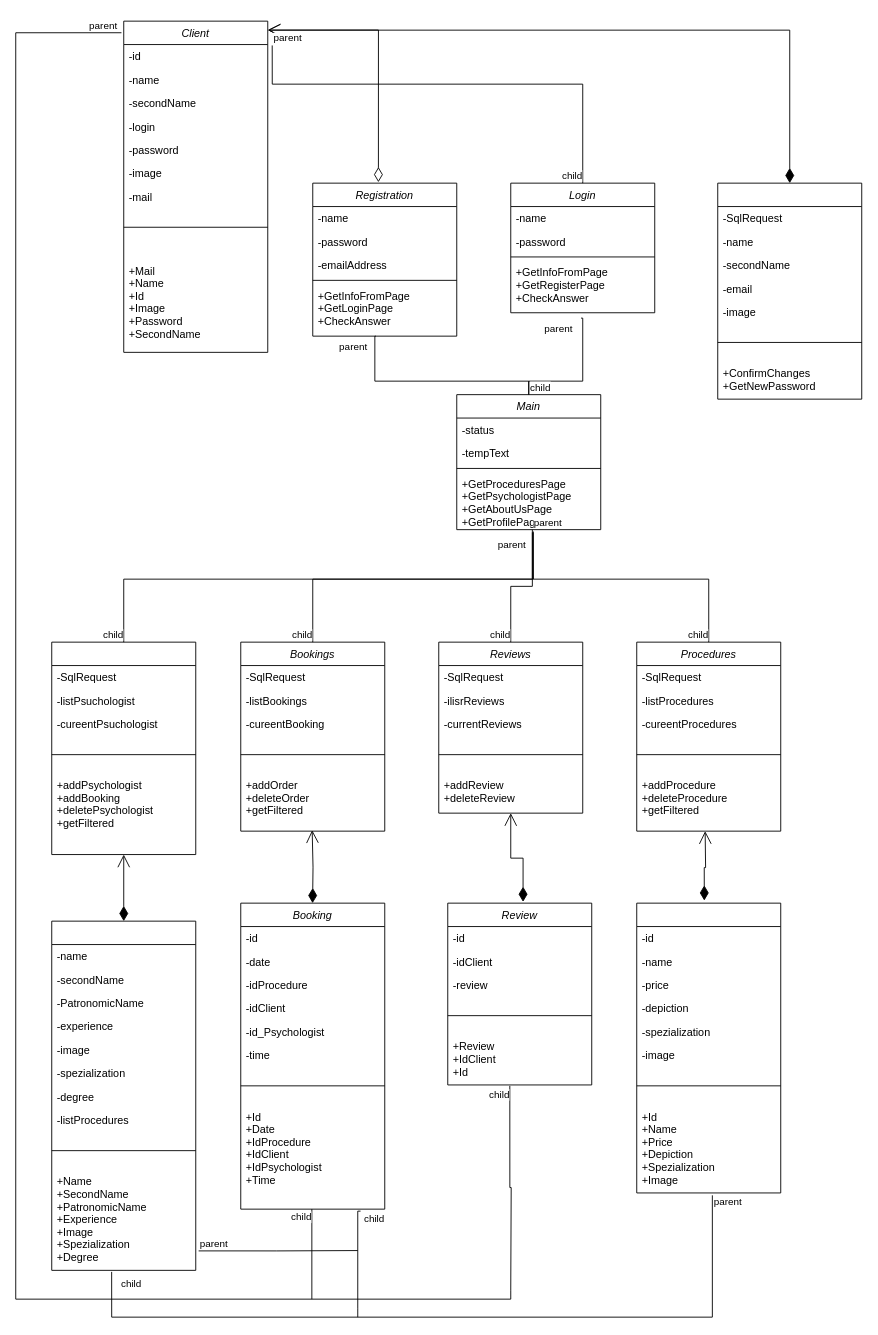
This 878x1335 diagram has some shape labels left out. Each missing label, with the box of its shape:
Procedure: (636, 902, 781, 1193)
Profile: (717, 182, 862, 399)
Psychologist: (51, 920, 196, 1270)
Psychologists: (51, 641, 196, 855)
